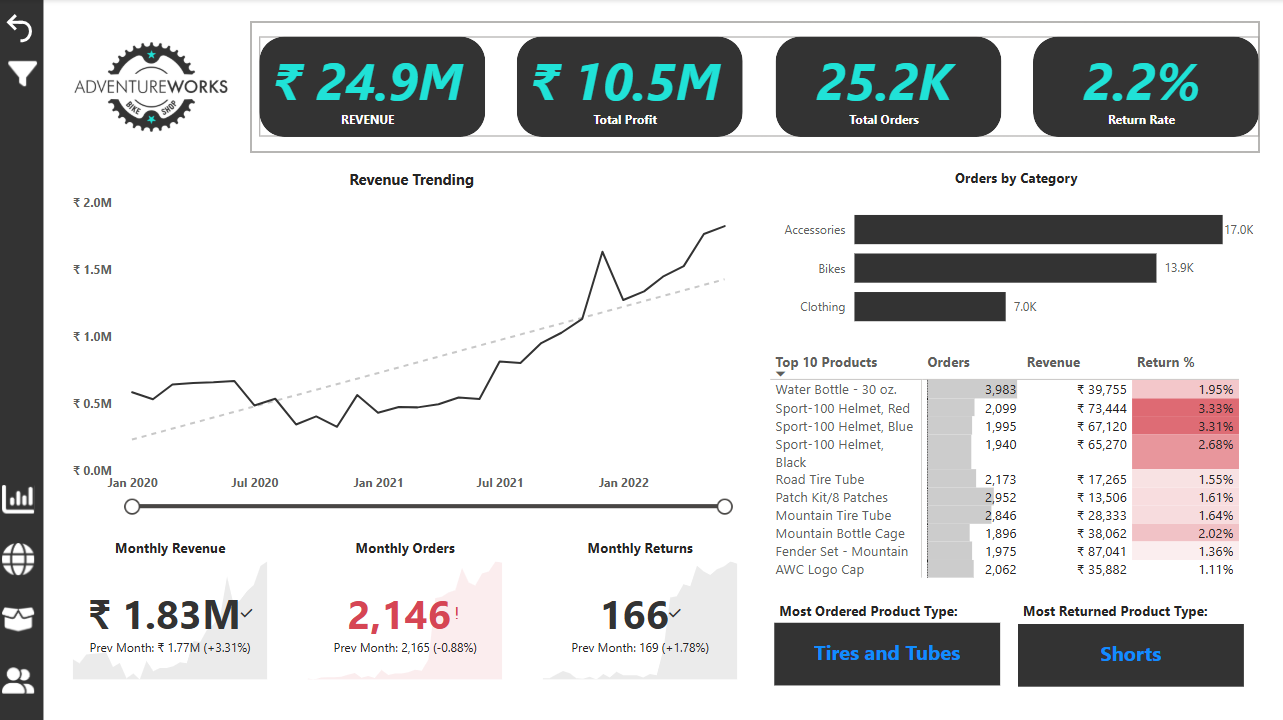

This screenshot's page, from the dashboard's own definition file:
{"tool":"powerbi","page":{"name":"Exec Dashboard","canvas":[1280,720],"ordinal":0},"visuals":[{"type":"image","title":"Aw Logo","box":[55,22.5,196.2,130],"z":0},{"type":"card","fields":{"Values":["Measure Table.Total Revenue"]},"box":[251.2,22.5,233.8,130],"z":0,"group":"g2"},{"type":"group","id":"g1","title":"KPI Backgrounds","box":[260,37.5,995,100],"z":0,"group":"g3"},{"type":"shape","box":[260,37.5,225,100],"z":0,"group":"g1"},{"type":"actionButton","box":[0.3,478.1,59.9,40.4],"z":0,"group":"g4"},{"type":"shape","title":"Left Nav Background","box":[0,0,45.2,720.2],"z":1000},{"type":"group","id":"g2","title":"KPI Values","box":[251.2,22.5,1003.8,130],"z":1000,"group":"g3"},{"type":"card","fields":{"Values":["Measure Table.Total Profit"]},"box":[507.9,22.5,233.8,130],"z":1000,"group":"g2"},{"type":"shape","box":[516.7,37.5,225,100],"z":1000,"group":"g1"},{"type":"actionButton","box":[0.3,538,59.9,40.4],"z":1000,"group":"g4"},{"type":"group","id":"g3","title":"KPI's","box":[251.2,22.5,1003.8,130],"z":2000},{"type":"card","fields":{"Values":["Measure Table.Total Orders"]},"box":[764.5,22.5,233.8,130],"z":2000,"group":"g2"},{"type":"shape","box":[773.3,37.5,225,100],"z":2000,"group":"g1"},{"type":"actionButton","box":[0.3,597.9,59.9,40.4],"z":2000,"group":"g4"},{"type":"card","fields":{"Values":["Measure Table.Return Rate"]},"box":[1021.2,22.5,233.8,130],"z":3000,"group":"g2"},{"type":"shape","box":[1030,37.5,225,100],"z":3000,"group":"g1"},{"type":"lineChart","title":"Revenue Trending ","fields":{"Y":["Measure Table.Total Revenue"],"Category":["Calendar Lookup.Year","Calendar Lookup.Start of Quarter","Calendar Lookup.Start of Month"]},"box":[70,168.8,683.8,346.2],"z":3000},{"type":"actionButton","box":[0.3,657.9,59.9,40.4],"z":3000,"group":"g4"},{"type":"kpi","title":"Monthly Revenue","fields":{"Indicator":["Measure Table.Total Revenue"],"TrendLine":["Calendar Lookup.Start of Month"],"Goal":["Measure Table.Previous Month Revenue"]},"box":[69.7,537.6,203.4,145.1],"z":4000},{"type":"kpi","title":"Monthly Orders","fields":{"TrendLine":["Calendar Lookup.Start of Month"],"Indicator":["Measure Table.Total Orders"],"Goal":["Measure Table.Previous Month Orders"]},"box":[303.6,537.6,203.4,145.1],"z":5000},{"type":"kpi","title":"Monthly Returns","fields":{"TrendLine":["Calendar Lookup.Start of Month"],"Indicator":["Measure Table.Total Returns"],"Goal":["Measure Table.Previous Month Returns"]},"box":[537.6,537.6,203.4,145.1],"z":6000},{"type":"clusteredBarChart","title":"Orders by Category","fields":{"Category":["Product Categories Lookup.CategoryName"],"Y":["Measure Table.Total Orders"]},"box":[772.8,168.8,481.8,173.6],"z":7000},{"type":"pivotTable","fields":{"Values":["Measure Table.Total Orders","Measure Table.Total Revenue","Measure Table.Return Rate"],"Rows":["Product Lookup.ProductName"]},"box":[764.3,347.3,490.4,244.6],"z":8000},{"type":"card","fields":{"Values":["Min(Product Subcategories Lookup.SubcategoryName)"]},"box":[772.8,621.2,225,62.4],"z":9000},{"type":"textbox","box":[772.8,594.3,212.8,31.8],"z":10000},{"type":"card","fields":{"Values":["Min(Product Subcategories Lookup.SubcategoryName)"]},"box":[1014.7,621.4,225,62.4],"z":11000},{"type":"textbox","box":[1015,594.3,212.8,31.8],"z":12000},{"type":"actionButton","box":[2.4,9.8,55,37.9],"z":13000},{"type":"group","id":"g4","title":"Navigation Bar","box":[0.3,478.1,59.9,220.1],"z":14000},{"type":"actionButton","box":[6.1,56.3,55,36.7],"z":15000}]}

Visuals, with their boxes on the page's 1280x720 design canvas (x1, y1, x2, y2). These are canvas units, not pixel positions in the 1283x720 screenshot, which may show the page scaled, cropped or inside an application window:
"Aw Logo" image: Rect(55, 22, 251, 152)
card - Measure Table.Total Revenue: Rect(251, 22, 485, 152)
"KPI Backgrounds" group: Rect(260, 38, 1255, 138)
shape: Rect(260, 38, 485, 138)
actionButton: Rect(0, 478, 60, 518)
"Left Nav Background" shape: Rect(0, 0, 45, 720)
"KPI Values" group: Rect(251, 22, 1255, 152)
card - Measure Table.Total Profit: Rect(508, 22, 742, 152)
shape: Rect(517, 38, 742, 138)
actionButton: Rect(0, 538, 60, 578)
"KPI's" group: Rect(251, 22, 1255, 152)
card - Measure Table.Total Orders: Rect(764, 22, 998, 152)
shape: Rect(773, 38, 998, 138)
actionButton: Rect(0, 598, 60, 638)
card - Measure Table.Return Rate: Rect(1021, 22, 1255, 152)
shape: Rect(1030, 38, 1255, 138)
"Revenue Trending " lineChart: Rect(70, 169, 754, 515)
actionButton: Rect(0, 658, 60, 698)
"Monthly Revenue" kpi: Rect(70, 538, 273, 683)
"Monthly Orders" kpi: Rect(304, 538, 507, 683)
"Monthly Returns" kpi: Rect(538, 538, 741, 683)
"Orders by Category" clusteredBarChart: Rect(773, 169, 1255, 342)
pivotTable - Measure Table.Total Orders x Measure Table.Total Revenue: Rect(764, 347, 1255, 592)
card - Min(Product Subcategories Lookup.SubcategoryName): Rect(773, 621, 998, 684)
textbox: Rect(773, 594, 986, 626)
card - Min(Product Subcategories Lookup.SubcategoryName): Rect(1015, 621, 1240, 684)
textbox: Rect(1015, 594, 1228, 626)
actionButton: Rect(2, 10, 57, 48)
"Navigation Bar" group: Rect(0, 478, 60, 698)
actionButton: Rect(6, 56, 61, 93)
